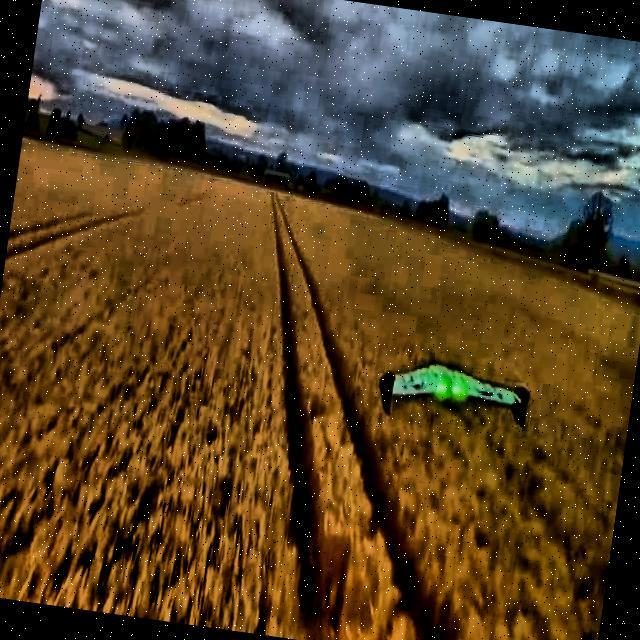iha: (358, 362, 550, 410)
